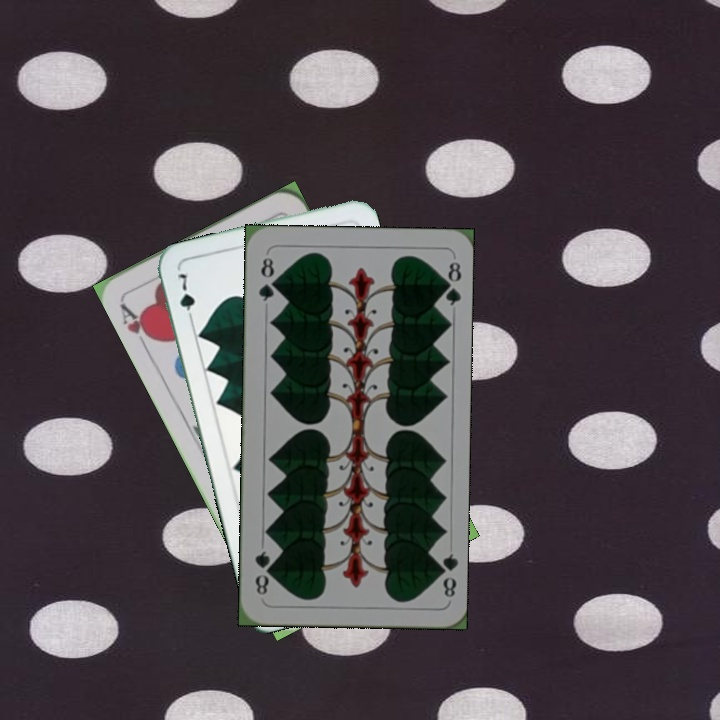G7: (173, 269, 198, 326)
G8: (432, 550, 459, 600), (254, 253, 278, 304)
HA: (115, 299, 159, 353)
